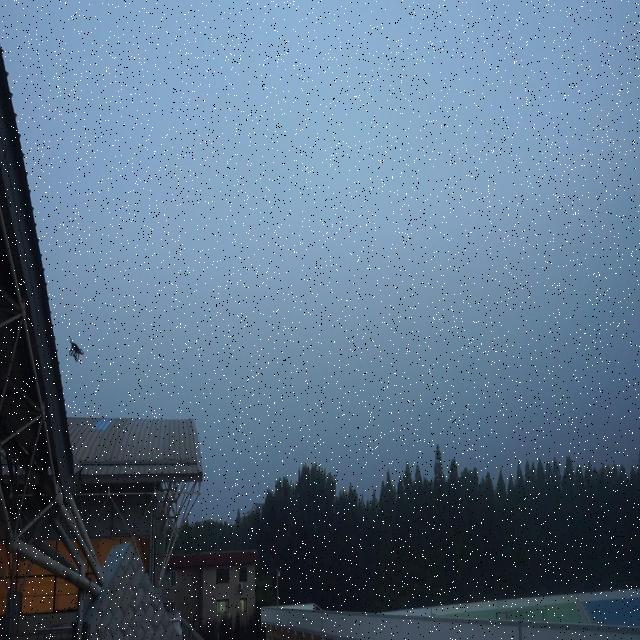UAV: (69, 336, 84, 363)
